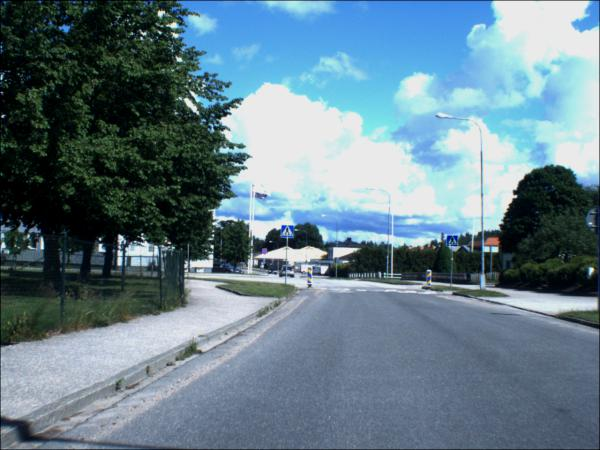NO_PARKING: (262, 249, 268, 257)
PEDESTRIAN_CROSSING: (281, 227, 295, 239), (447, 237, 458, 248)
